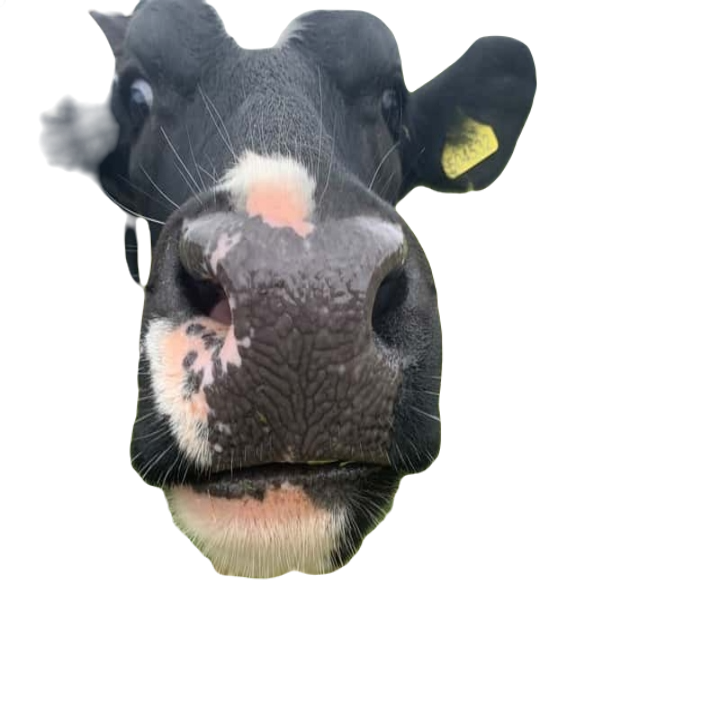Cow: (33, 0, 544, 577)
